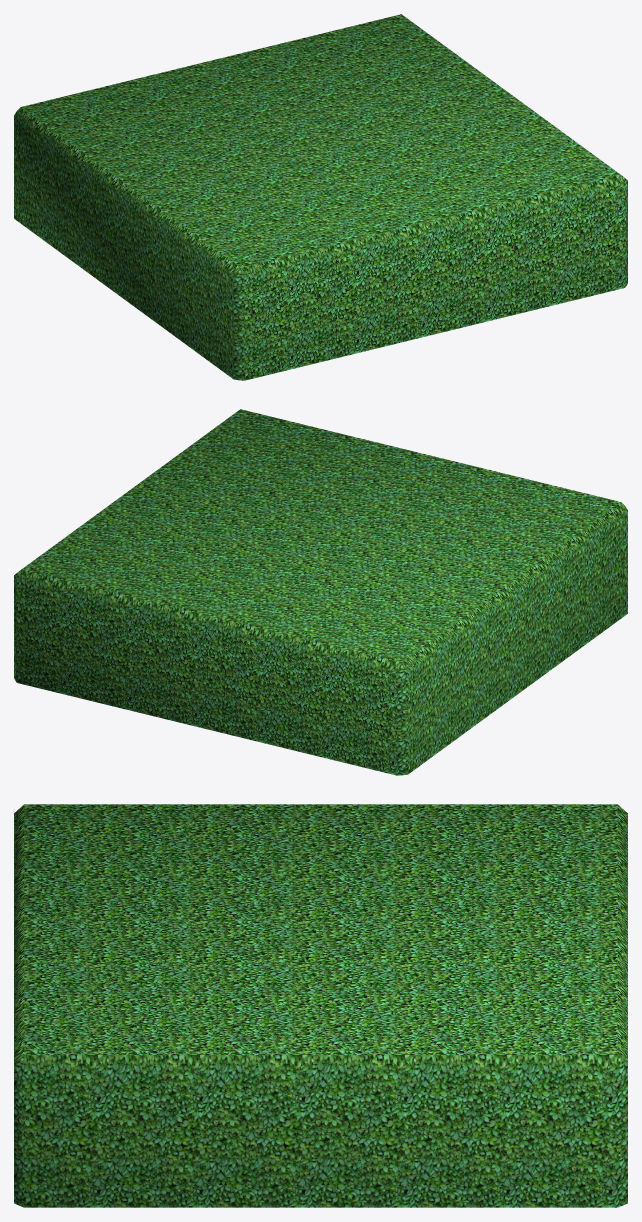
Rendered from Hedge02e.FBX.
3 views of the same model, one above another, from view 1: azimuth 30°, elevation 25°; view 2: azimuth 150°, elevation 25°; view 3: azimuth 270°, elevation 25° (orthographic). The views are drawn at different scales.
Visible parts, largest first — view 1: Hedge02e; view 2: Hedge02e; view 3: Hedge02e.
Boxes of the visible parts, <box> form: Hedge02e: <box>14,14,627,380</box>; Hedge02e: <box>14,409,627,775</box>; Hedge02e: <box>14,804,627,1207</box>.
Bounding box in the file's own units: 300 × 80 × 300.
1 material, 1 textured.
